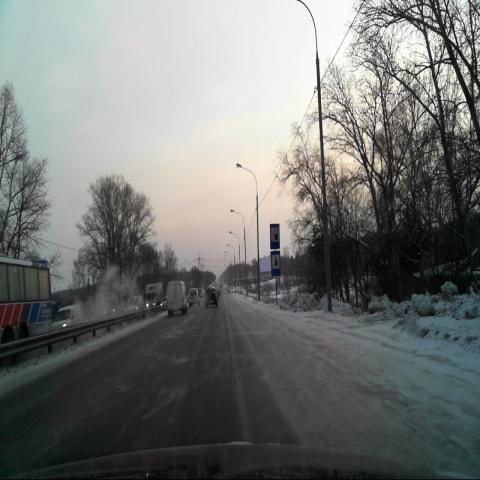7_11: (270, 251, 280, 275)
